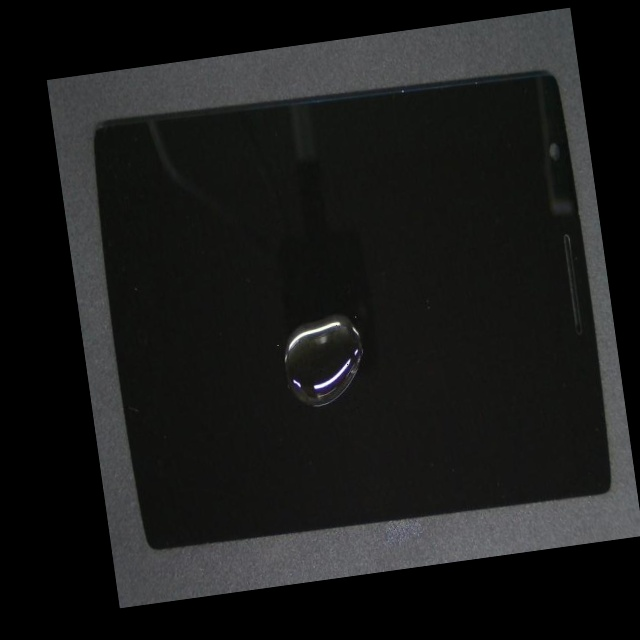oil: (219, 170, 497, 476)
